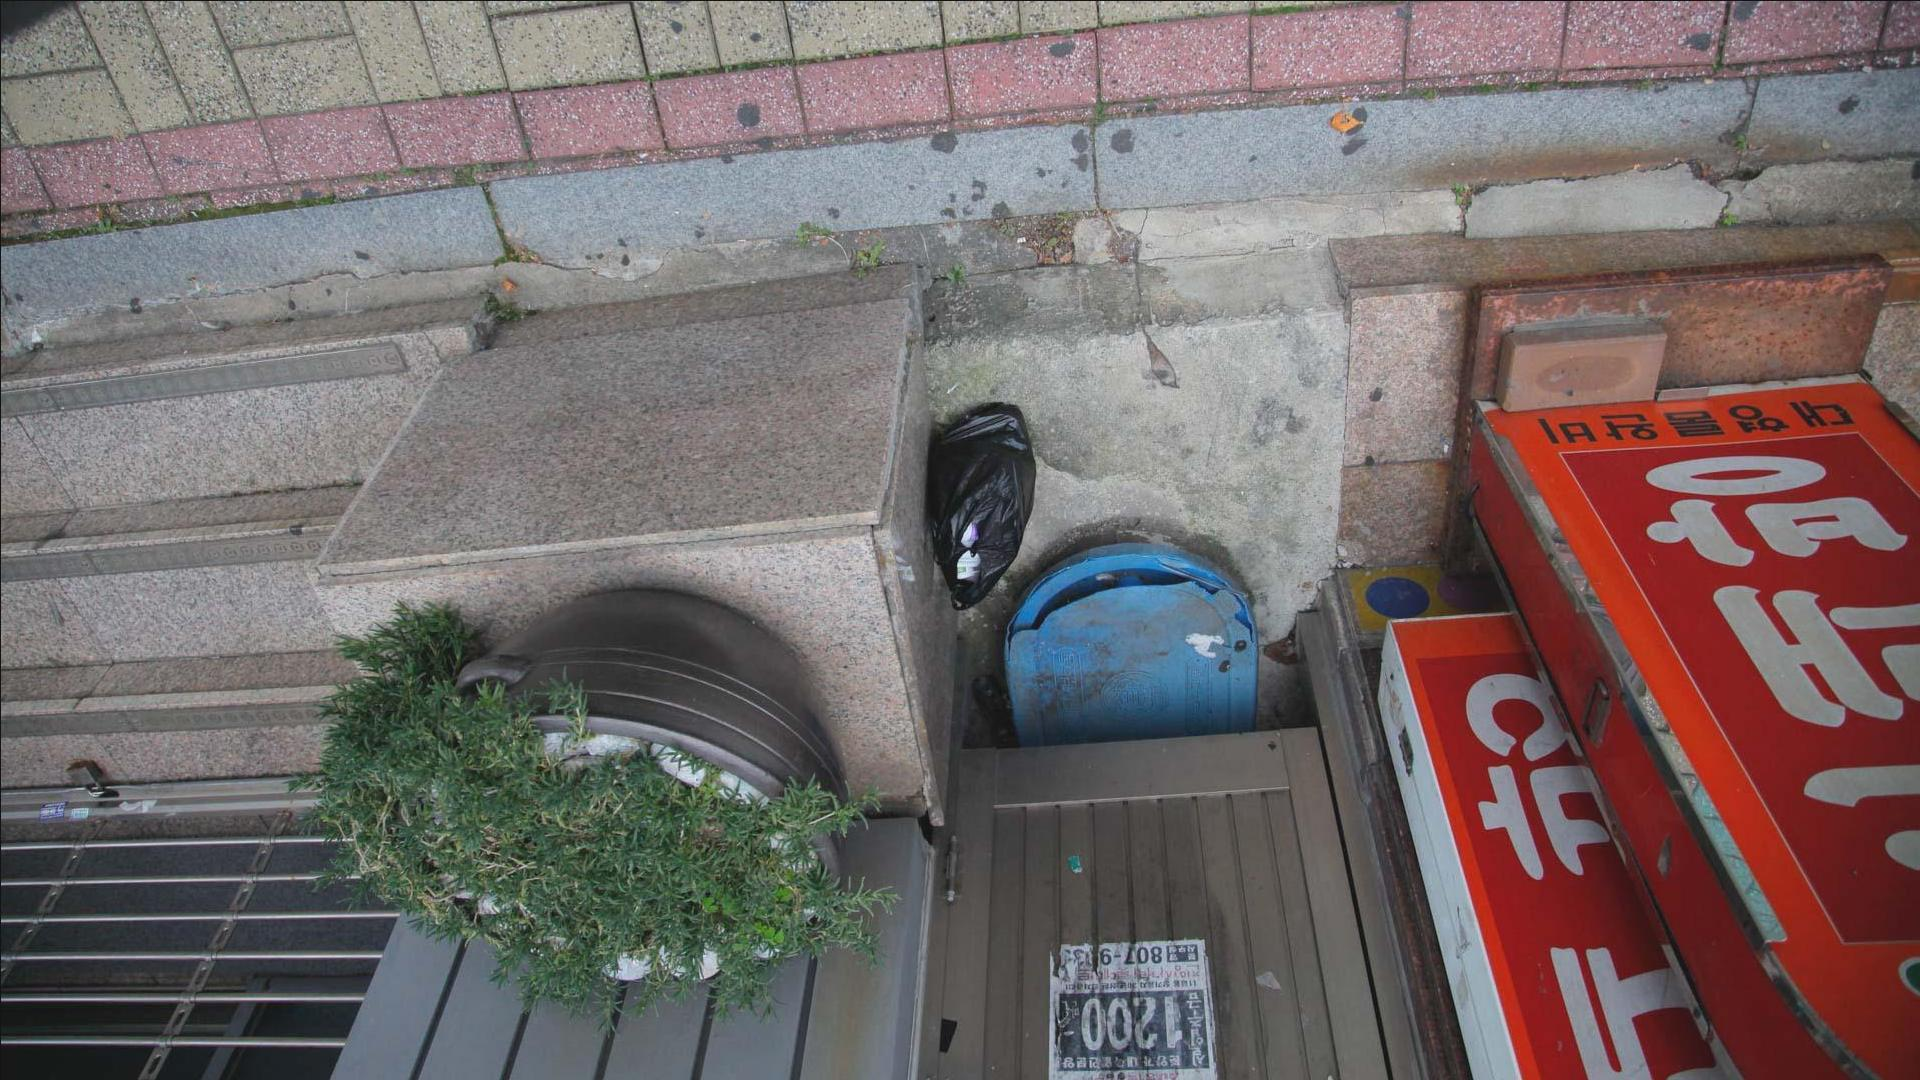black_bag: (916, 393, 1036, 613)
